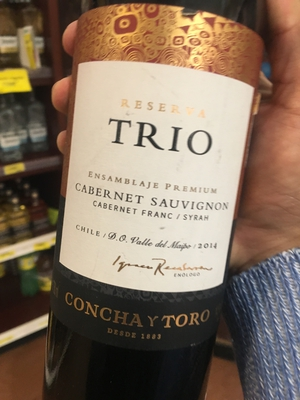trio cabernet sauvignon: (51, 6, 271, 400)
